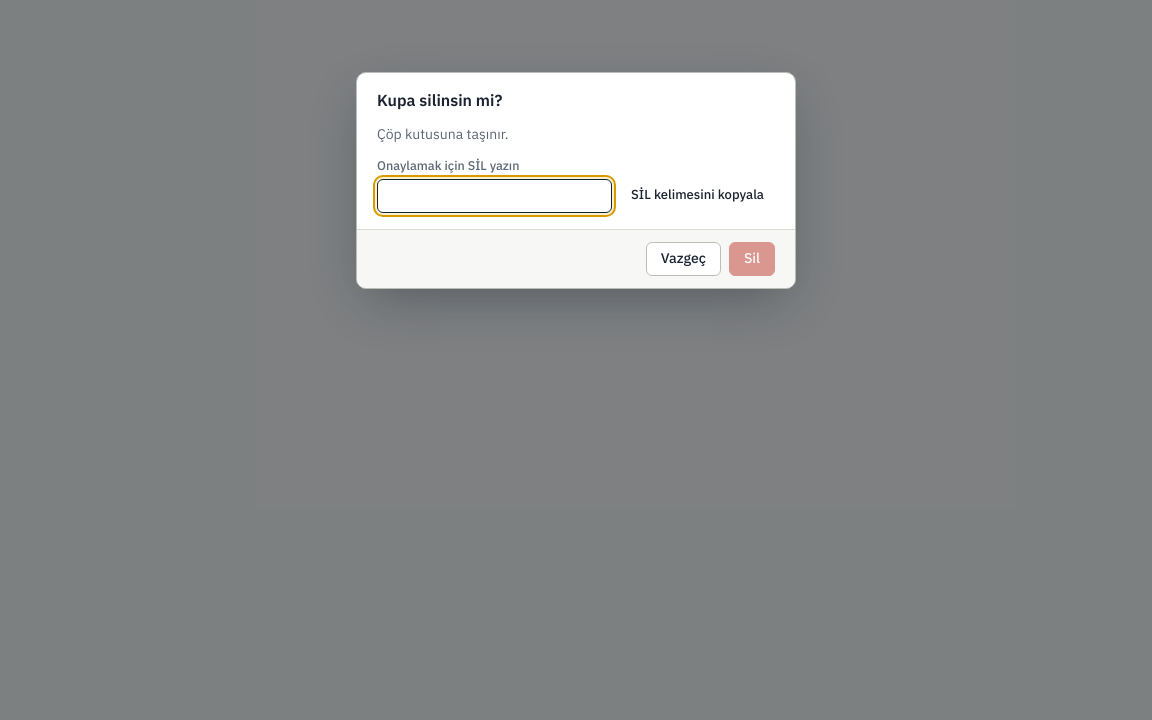
Scenario: DeleteConfirmDialog › enables the delete button only for exact SİL
The width and height of the screenshot is (1152, 720).
Expected: the button "Sil" is disabled, top-left (729, 242), bottom-right (775, 276)
Type "sil" into the field labelled "Onaylamak için SİL yazın SİL kelimesini kopyala" at x=494, y=196, box top-left (377, 179), bottom-right (612, 213)
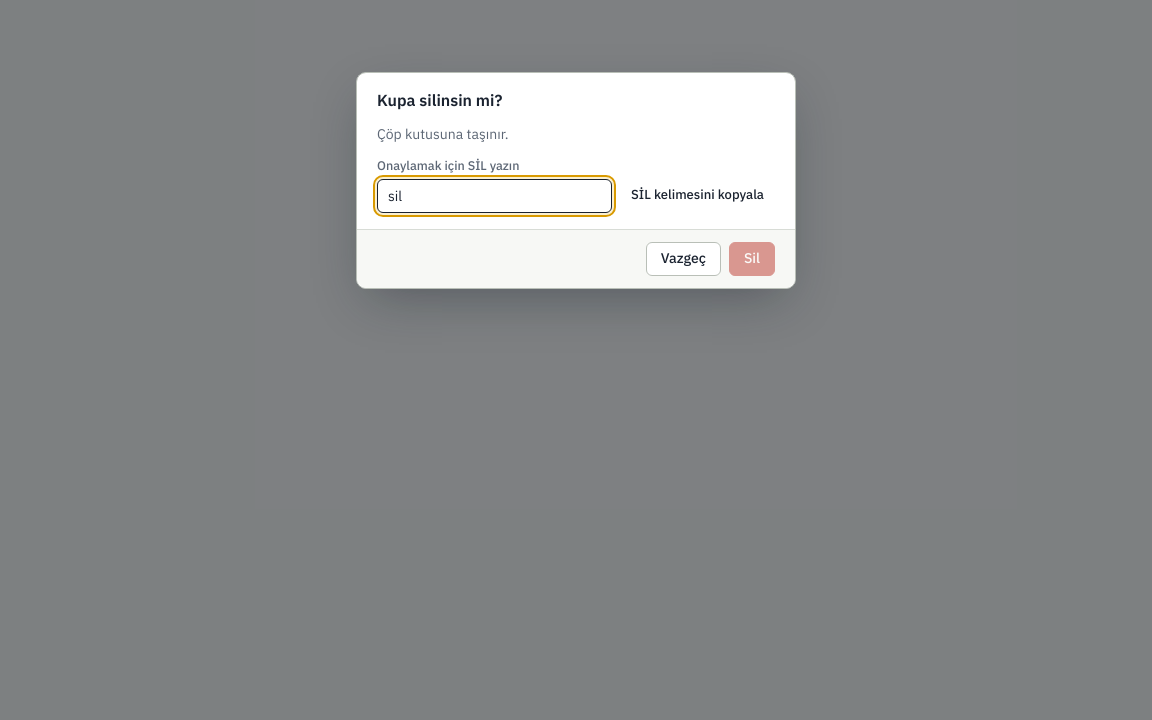
Expected: the button "Sil" is disabled, top-left (729, 242), bottom-right (775, 276)
Replace the text in the field labelled "Onaylamak için SİL yazın SİL kelimesini kopyala" with "SIL" at x=494, y=196, box top-left (377, 179), bottom-right (612, 213)
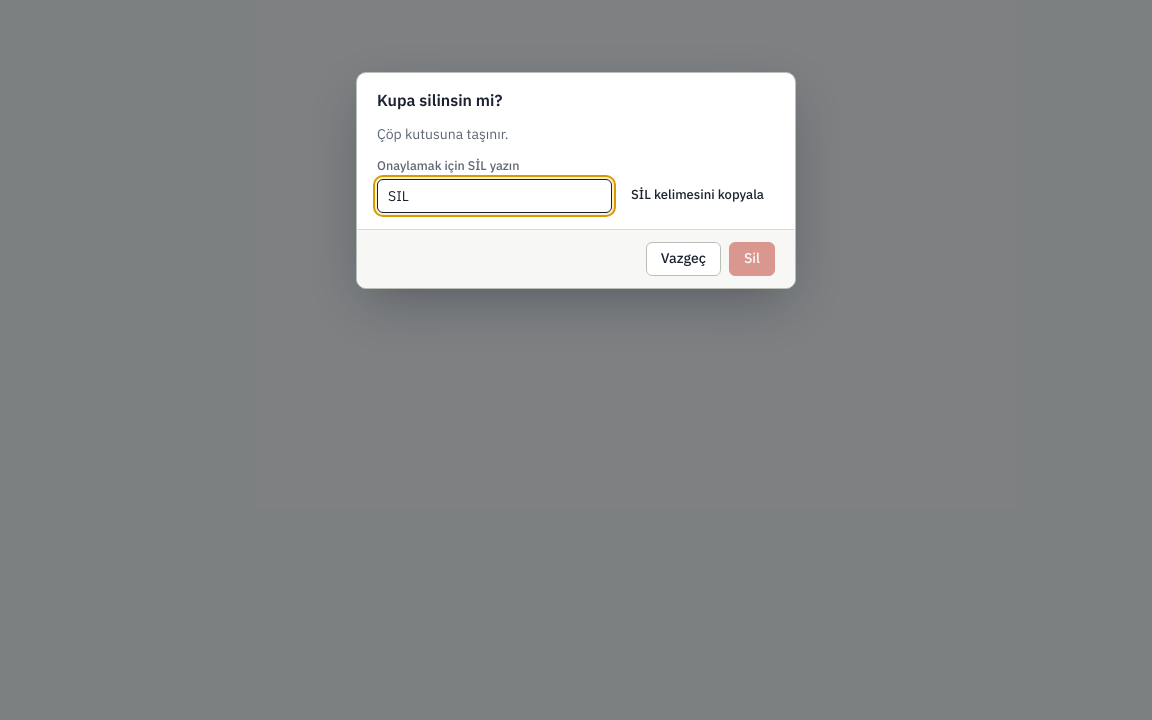
Expected: the button "Sil" is disabled, top-left (729, 242), bottom-right (775, 276)
Replace the text in the field labelled "Onaylamak için SİL yazın SİL kelimesini kopyala" with "Sil" at x=494, y=196, box top-left (377, 179), bottom-right (612, 213)
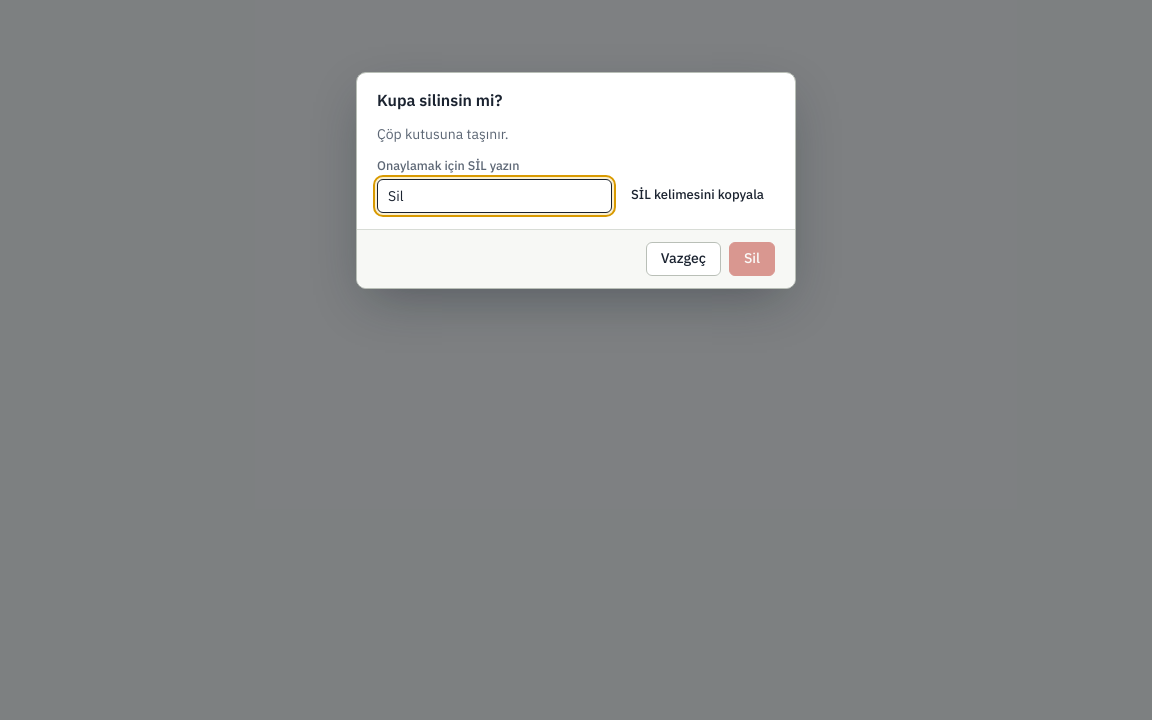
Expected: the button "Sil" is disabled, top-left (729, 242), bottom-right (775, 276)
Replace the text in the field labelled "Onaylamak için SİL yazın SİL kelimesini kopyala" with " SİL " at x=494, y=196, box top-left (377, 179), bottom-right (612, 213)
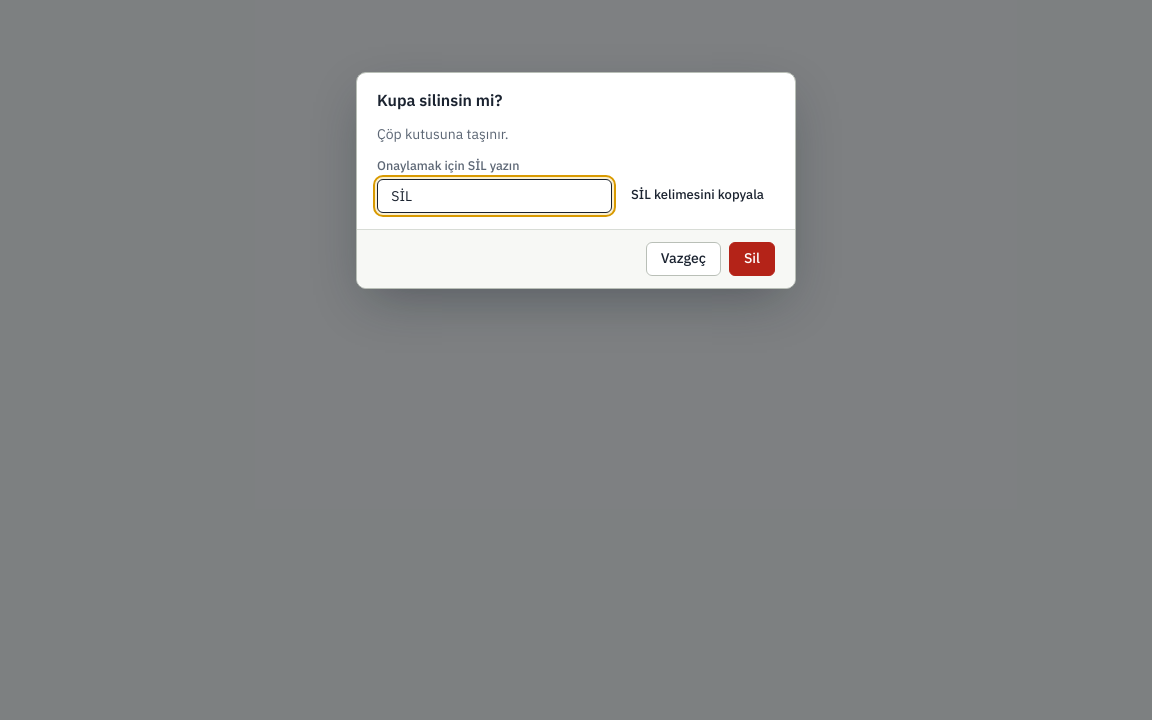
Now the button "Sil" is enabled, box top-left (729, 242), bottom-right (775, 276)
